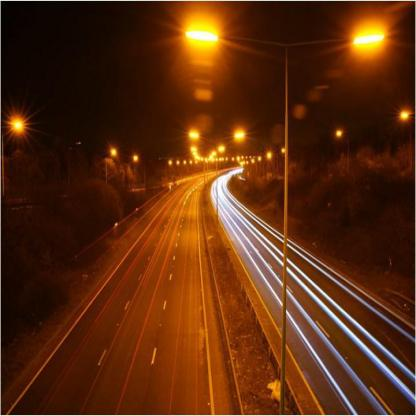other: (162, 120, 262, 164), (340, 13, 391, 62), (179, 14, 228, 56)
